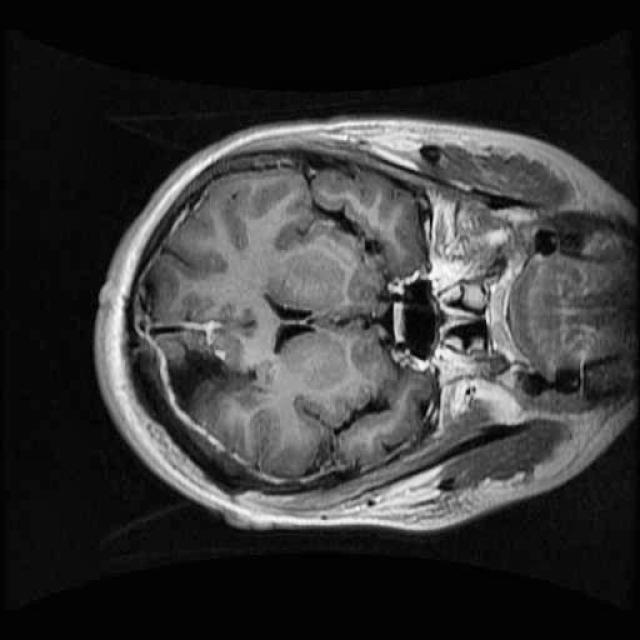Non-Tumor: (150, 325, 255, 426)
